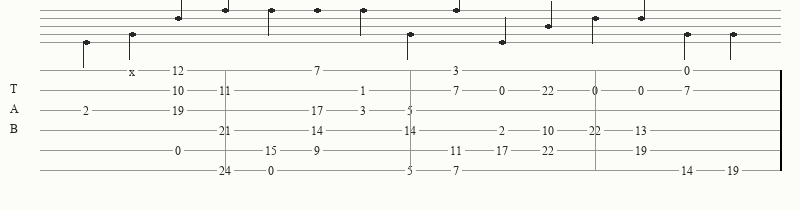0: (175, 144, 185, 157), (268, 164, 278, 177), (499, 84, 509, 97), (592, 84, 602, 97), (638, 84, 648, 97), (684, 64, 694, 77)
1: (360, 84, 370, 97)
10: (172, 84, 188, 97), (542, 124, 558, 137)
11: (219, 84, 235, 97), (450, 144, 466, 157)
12: (172, 64, 188, 77)
13: (635, 124, 651, 137)
14: (311, 124, 327, 137), (404, 124, 420, 137), (681, 164, 697, 177)
15: (265, 144, 281, 157)
17: (311, 104, 327, 117), (496, 144, 512, 157)
19: (172, 104, 188, 117), (635, 144, 651, 157), (727, 164, 743, 177)
2: (83, 104, 93, 117), (499, 124, 509, 137)
21: (219, 124, 235, 137)
22: (542, 144, 558, 157), (542, 84, 558, 97), (589, 124, 605, 137)
24: (219, 164, 235, 177)
3: (360, 104, 370, 117), (453, 64, 463, 77)
5: (407, 164, 417, 177), (407, 104, 417, 117)
7: (314, 64, 324, 77), (453, 84, 463, 97), (453, 164, 463, 177), (684, 84, 694, 97)
9: (314, 144, 324, 157)
x: (129, 65, 139, 75)
